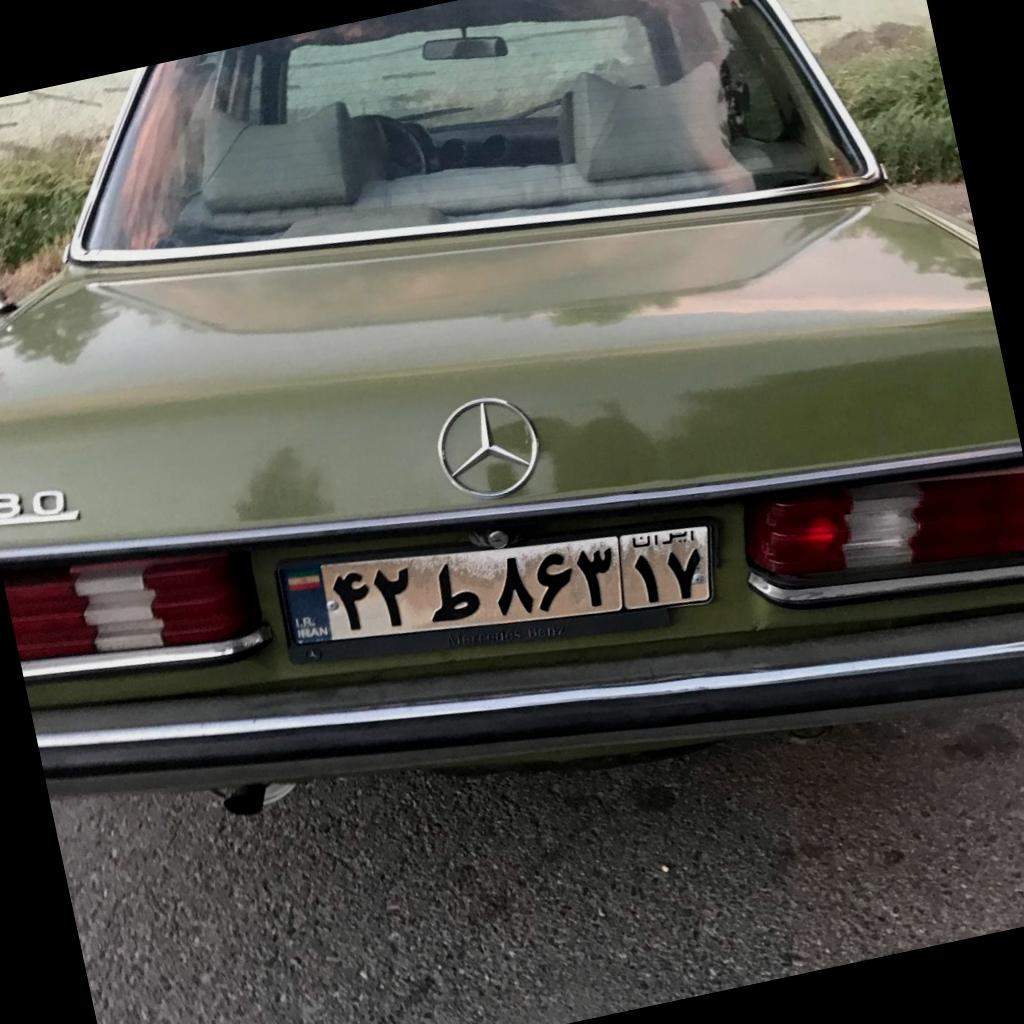Plates: (283, 526, 711, 645)
